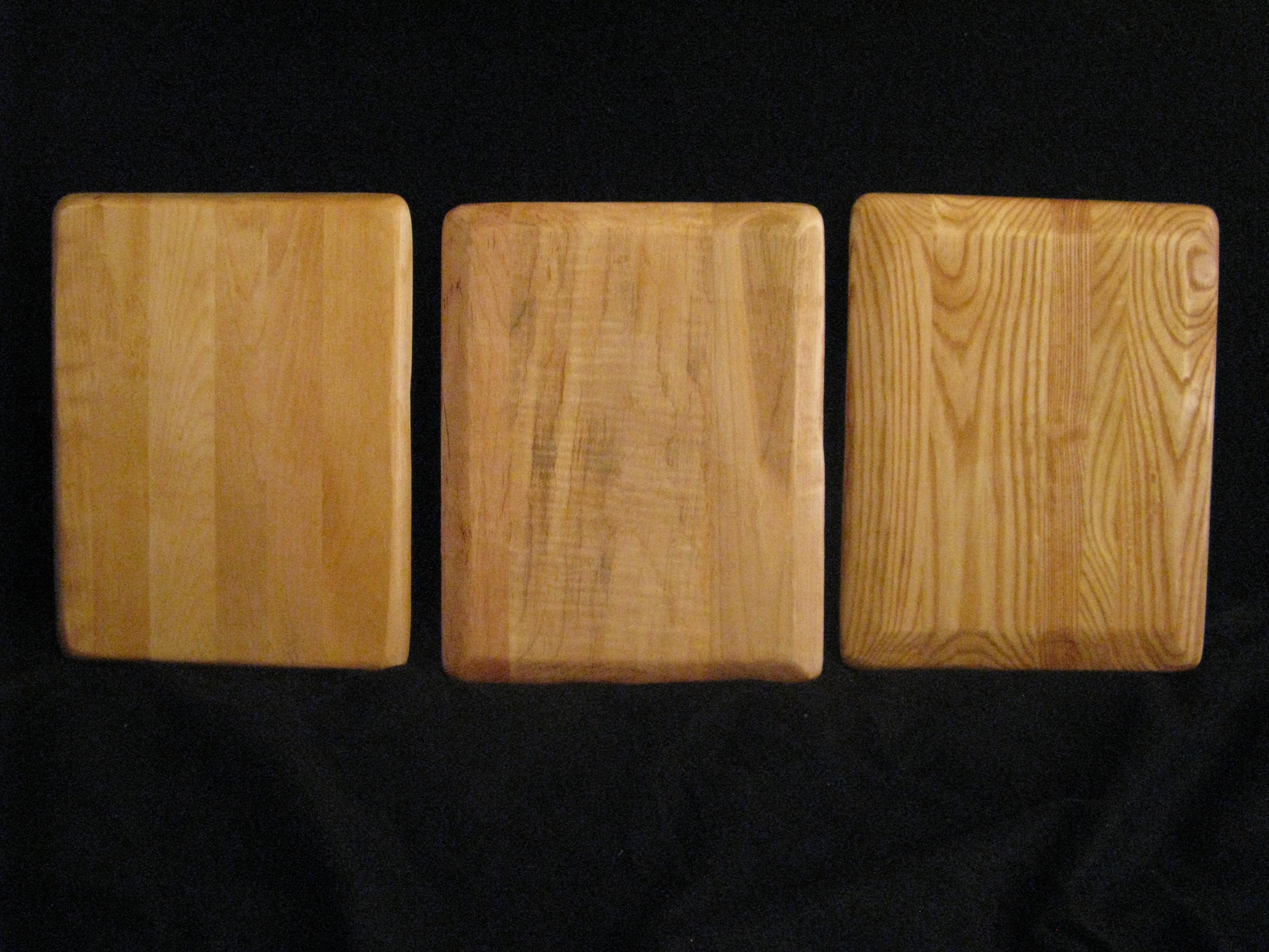gloved_hand: (436, 193, 840, 703)
